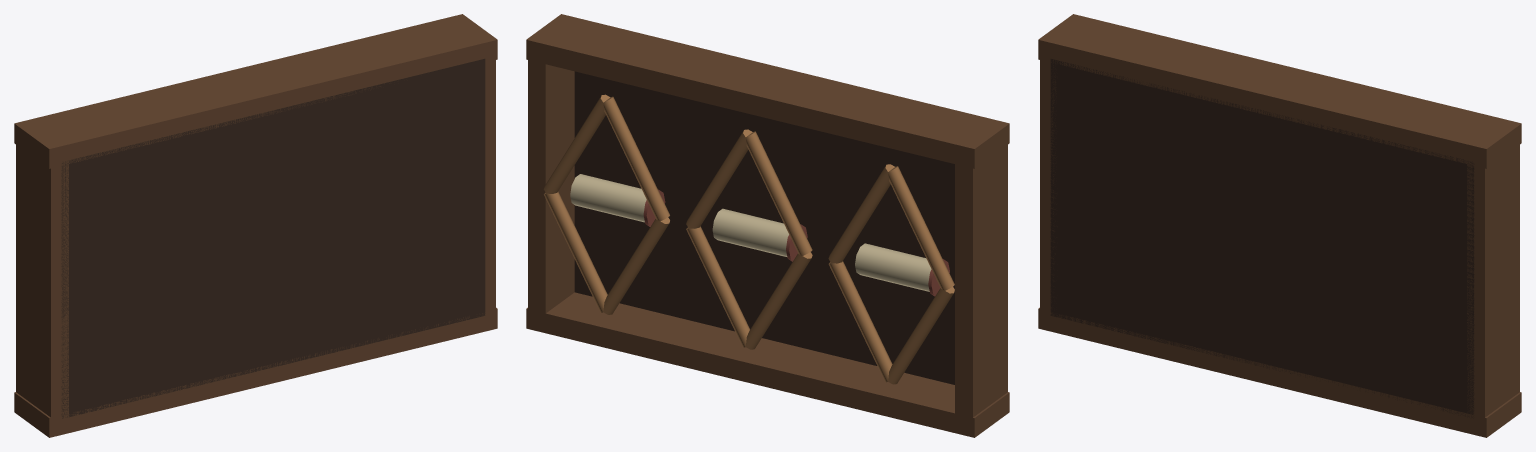
Rendered from scroll_rack.glb.
3 views of the same model, side by side, from view 1: azimuth 30°, elevation 25°; view 2: azimuth 150°, elevation 25°; view 3: azimuth 330°, elevation 25° (orthographic).
Visible parts, largest first — view 1: scroll_rack; view 2: scroll_rack; view 3: scroll_rack.
Boxes of the visible parts, box(x1,y1,x2,y2) form: scroll_rack: box(14, 14, 497, 437); scroll_rack: box(526, 14, 1009, 437); scroll_rack: box(1038, 14, 1521, 437).
Size of the model in its own units: 2.6 by 1.6 by 0.4.
1 material, 1 textured.
